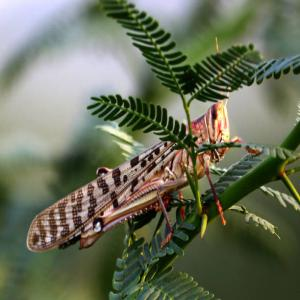locust: (28, 98, 239, 255)
